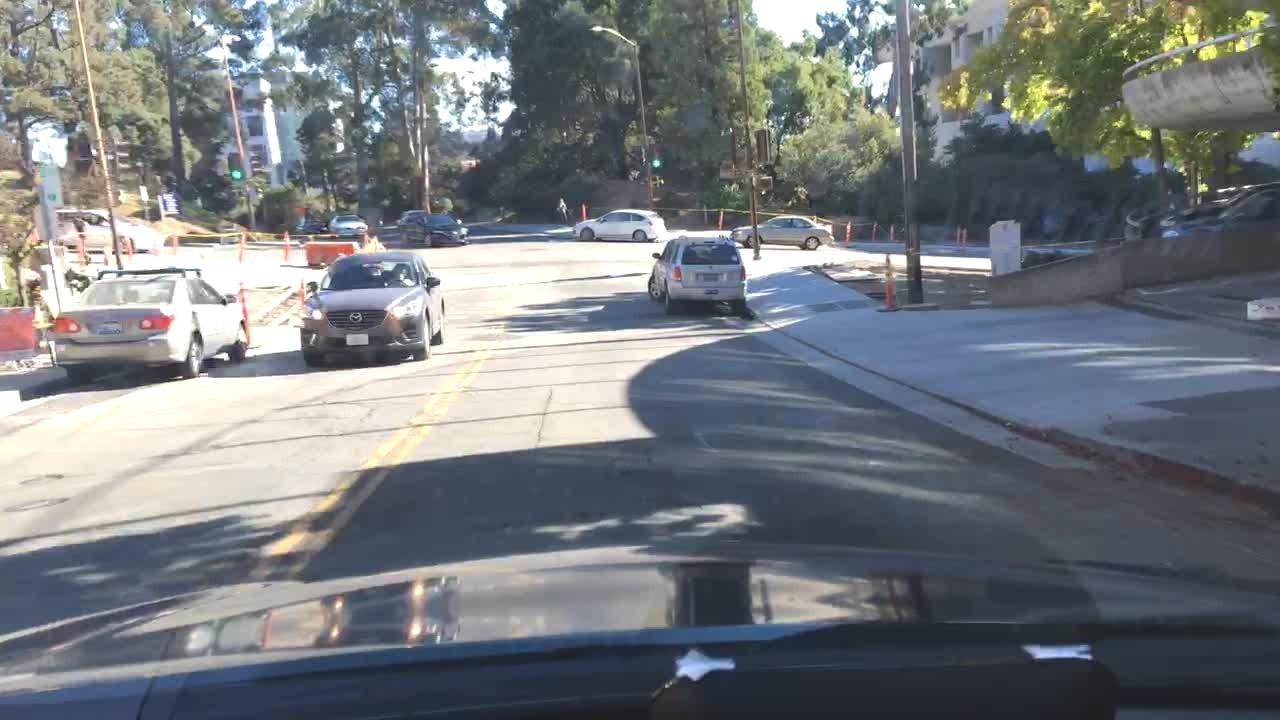Mazda: (346, 310, 365, 325)
